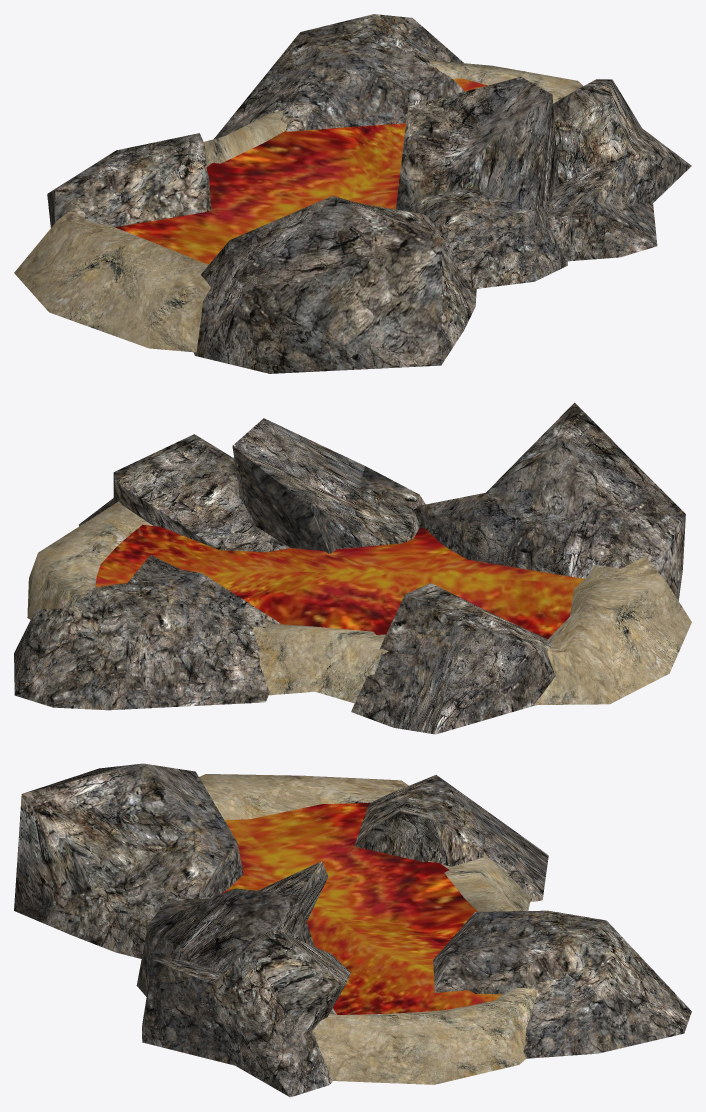
The model's file is pir_m_prp_cav_pool_lavaC.fbx.
The picture shows the model from 3 angles, top to bottom: view 1: azimuth 30°, elevation 25°; view 2: azimuth 150°, elevation 25°; view 3: azimuth 270°, elevation 25°; orthographic projection. The views are drawn at different scales.
Parts seen in each view (by area): view 1: rock_1, rock_0, pool_lip, lava, rock_5, rock_4, rock_2; view 2: pool_lip, rock_5, rock_1, lava, rock_2, rock_0, rock_4; view 3: rock_1, lava, pool_lip, rock_5, rock_4, rock_2, rock_0.
Boxes of the visible parts, x1,y1,x2,y2 form: rock_1: (193, 196, 476, 373); rock_0: (396, 77, 567, 289); pool_lip: (14, 60, 582, 352); lava: (114, 78, 487, 264); rock_5: (214, 14, 464, 138); rock_4: (548, 79, 691, 261); rock_2: (47, 133, 211, 227); pool_lip: (27, 501, 691, 704); rock_5: (14, 555, 280, 710); rock_1: (413, 402, 685, 600); lava: (95, 524, 583, 639); rock_2: (351, 583, 555, 734); rock_0: (232, 418, 425, 553); rock_4: (79, 434, 289, 552); rock_1: (14, 763, 243, 958); lava: (219, 802, 501, 1014); pool_lip: (199, 774, 538, 1084); rock_5: (433, 910, 691, 1058); rock_4: (142, 929, 350, 1097); rock_2: (354, 775, 548, 902); rock_0: (136, 861, 328, 996).
Bounding box in the file's own units: 3649 × 765 × 3473.
3 materials, 3 textured.
